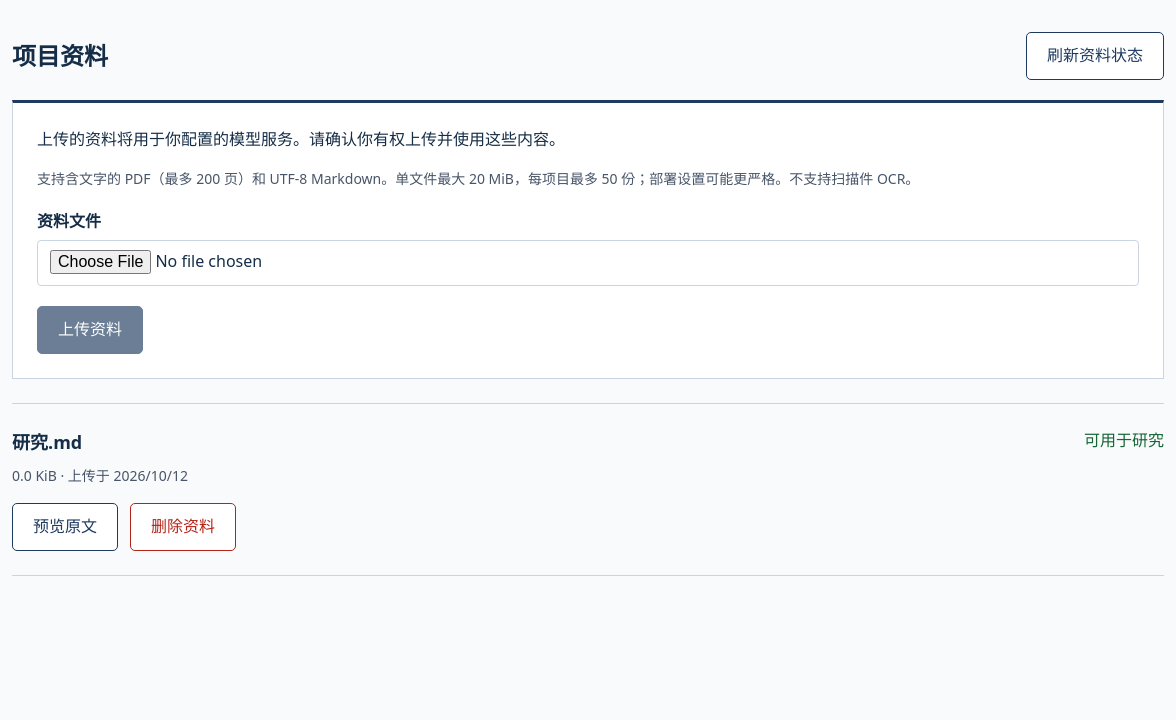
Scenario: confirms deletion, revokes preview and refreshes the server state
The image size is (1176, 720).
Step 1. Click the button "预览原文" → (65, 527), box [12,503,118,551]
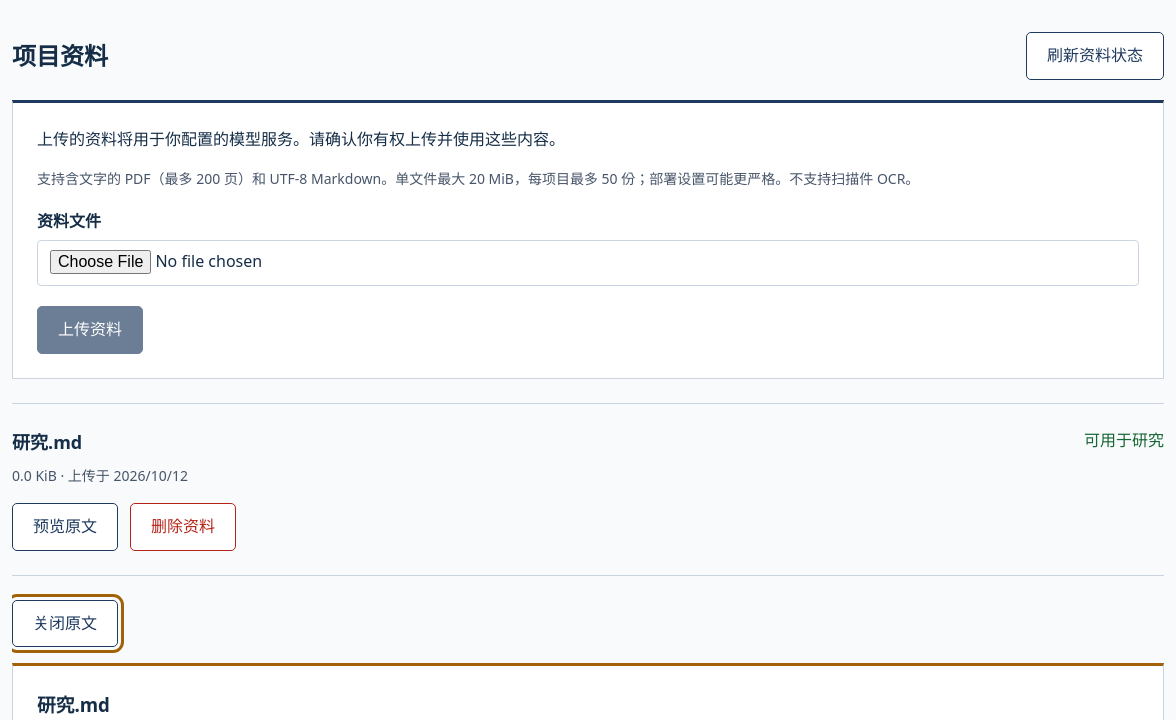
Step 2. Click the button "删除资料" → (183, 527), box [130,503,236,551]
(page scrolled)
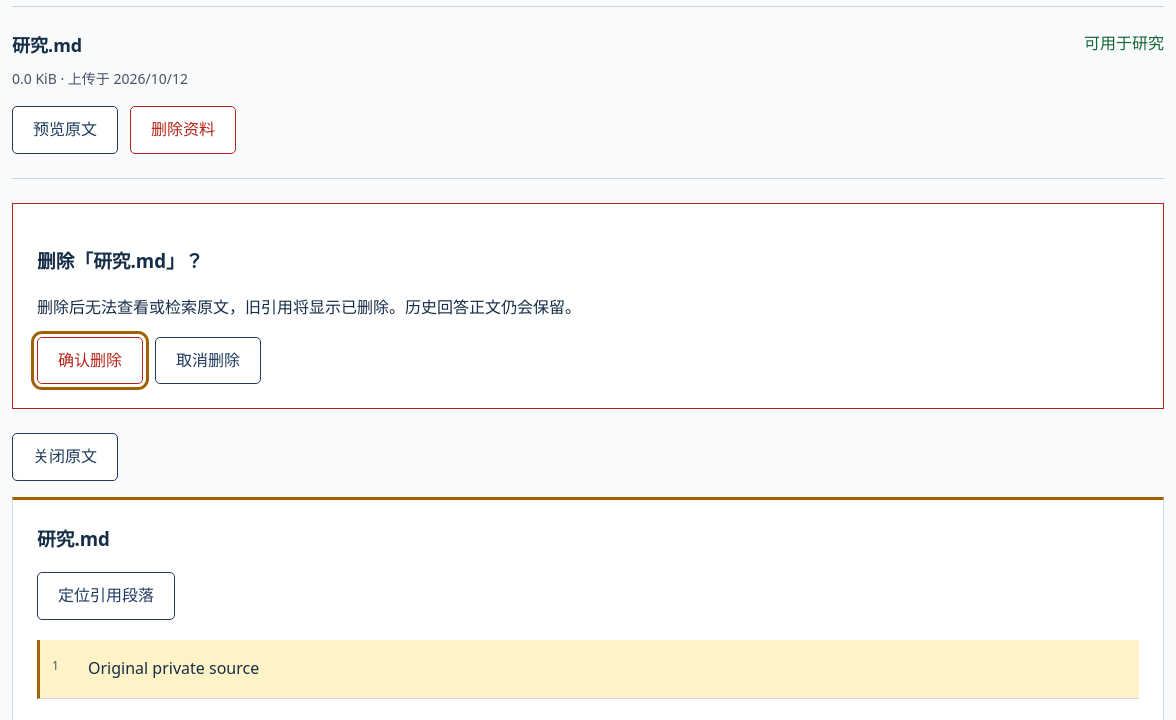
Expected: the text "删除后无法查看或检索原文，旧引用将显示已删除。历史回答正文仍会保留。" is shown, [37,296,581,318]
Step 3. Click the button "确认删除" → (90, 360), box [37,336,143,384]
(page scrolled)
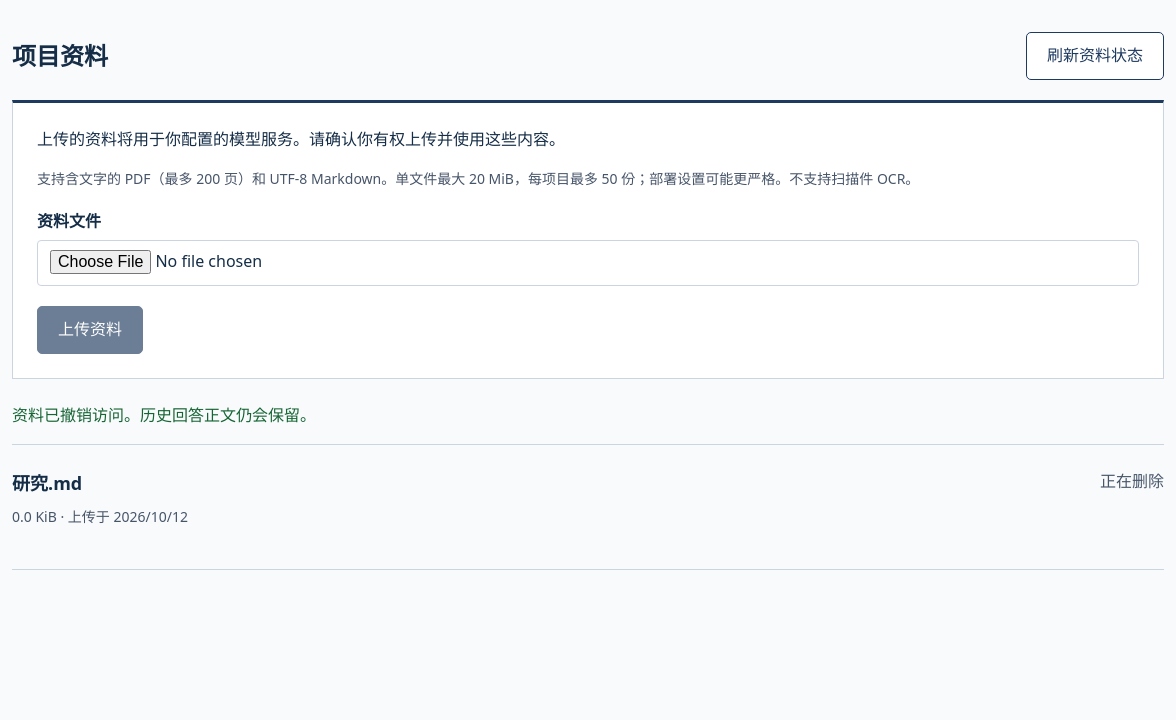
Expected: the text "正在删除" is shown, [1100,469,1164,495]
Expected: the text "Original private source" is gone
Expected: the button "预览原文" is gone
